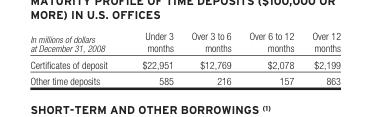table: (29, 29, 339, 86)
table column: (29, 29, 124, 86), (239, 29, 302, 86), (181, 29, 239, 86), (124, 29, 181, 86), (302, 29, 339, 86)
table column header: (29, 29, 339, 55)
table row: (29, 29, 339, 55), (29, 55, 339, 72), (29, 72, 339, 86)
